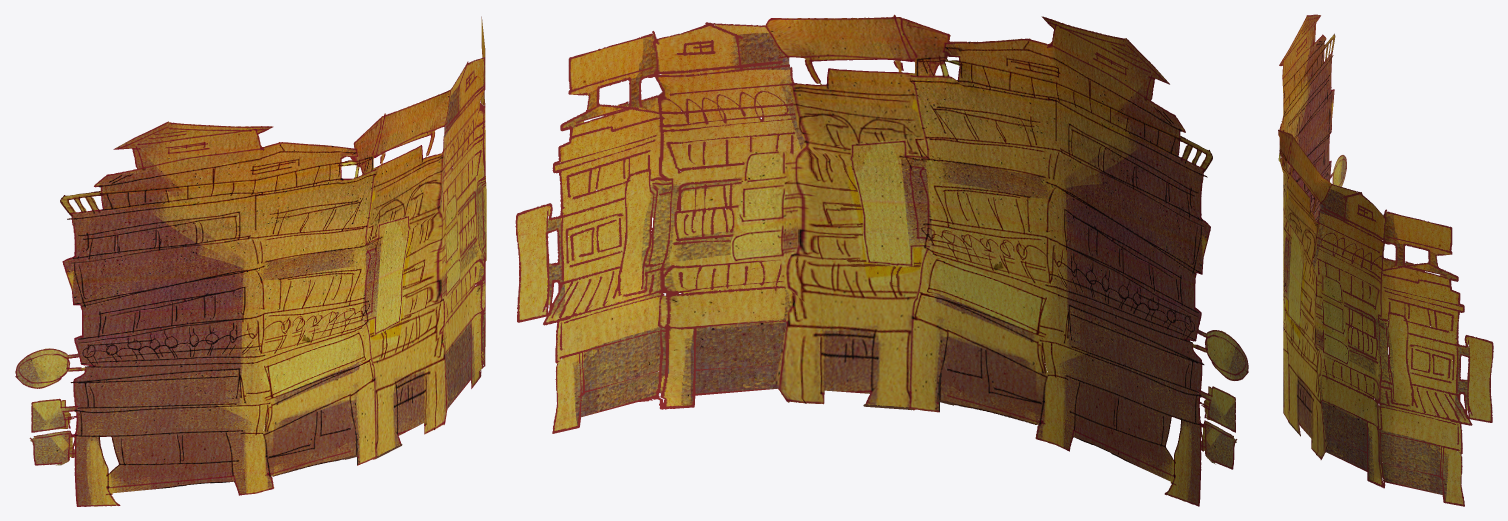
The model's file is 02_front_bld_02.fbx.
3 renders of one model, left to right at view 1: azimuth 30°, elevation 25°; view 2: azimuth 150°, elevation 25°; view 3: azimuth 270°, elevation 25°, orthographic. The views are drawn at different scales.
Parts seen in each view (by area): view 1: 02_前_房子_02; view 2: 02_前_房子_02; view 3: 02_前_房子_02.
Boxes of the visible parts, box(x1,y1,x2,y2) form: 02_前_房子_02: box(15, 16, 486, 506); 02_前_房子_02: box(515, 14, 1248, 506); 02_前_房子_02: box(1278, 14, 1493, 506).
Size of the model in its own units: 389 by 258 by 154.
1 material, 1 textured.
